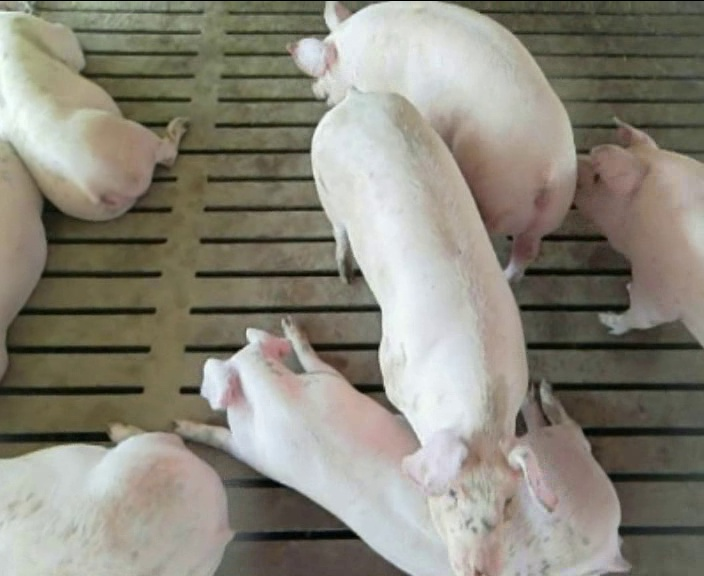pig: (291, 2, 575, 279), (0, 421, 232, 574), (577, 119, 703, 346)
